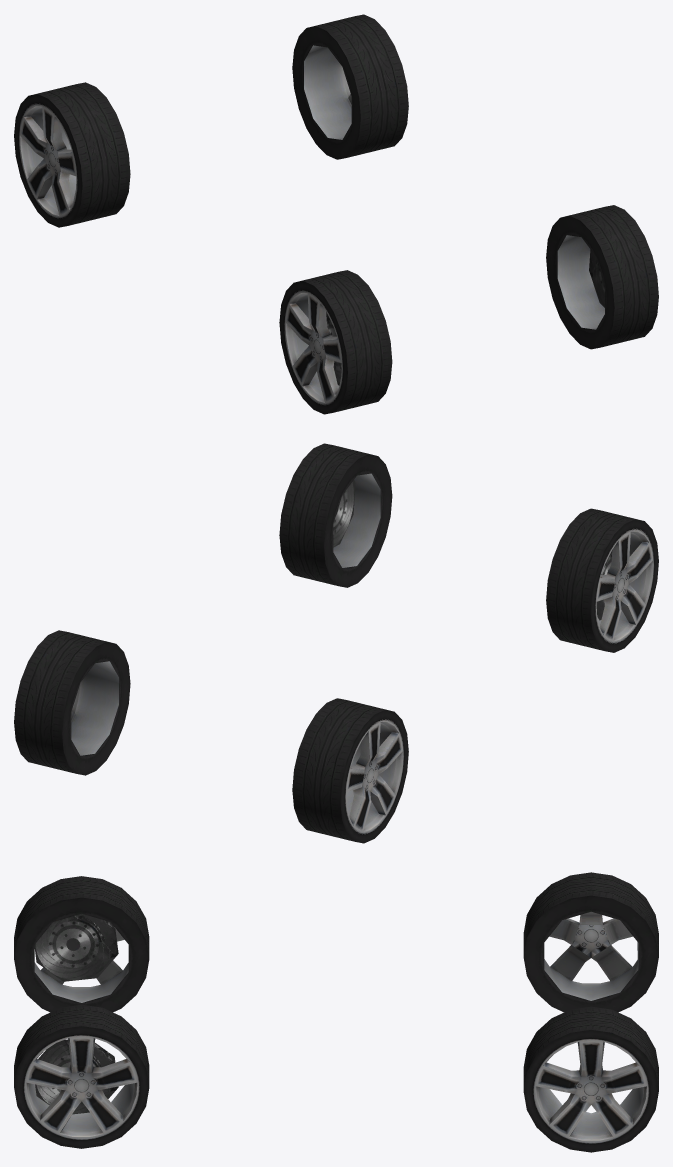
Rendered from PlayerCar_4.fbx.
The picture shows the model from 3 angles, top to bottom: view 1: azimuth 30°, elevation 25°; view 2: azimuth 150°, elevation 25°; view 3: azimuth 270°, elevation 25°; orthographic projection.
Visible parts, largest first — view 1: Wheel_Back_R, Wheel_Back_L, Wheel_R, Wheel_L; view 2: Wheel_Back_L, Wheel_Back_R, Wheel_R, Wheel_L, break_L; view 3: Wheel_Back_L, Wheel_Back_R, Wheel_L, Wheel_R, break_R, break_L.
Boxes of the visible parts, x1,y1,x2,y2 form: Wheel_Back_R: [14, 82, 130, 227]; Wheel_Back_L: [292, 14, 408, 159]; Wheel_R: [279, 270, 392, 414]; Wheel_L: [546, 205, 658, 349]; Wheel_Back_L: [14, 630, 130, 775]; Wheel_Back_R: [292, 698, 408, 843]; Wheel_R: [546, 508, 658, 652]; Wheel_L: [279, 443, 392, 587]; break_L: [333, 480, 355, 547]; Wheel_Back_L: [523, 1006, 658, 1152]; Wheel_Back_R: [523, 872, 658, 1012]; Wheel_L: [14, 1004, 149, 1148]; Wheel_R: [14, 876, 149, 1012]; break_R: [34, 913, 118, 981]; break_L: [35, 1039, 118, 1114].
Bounding box in the file's own units: 301 × 109 × 520.
